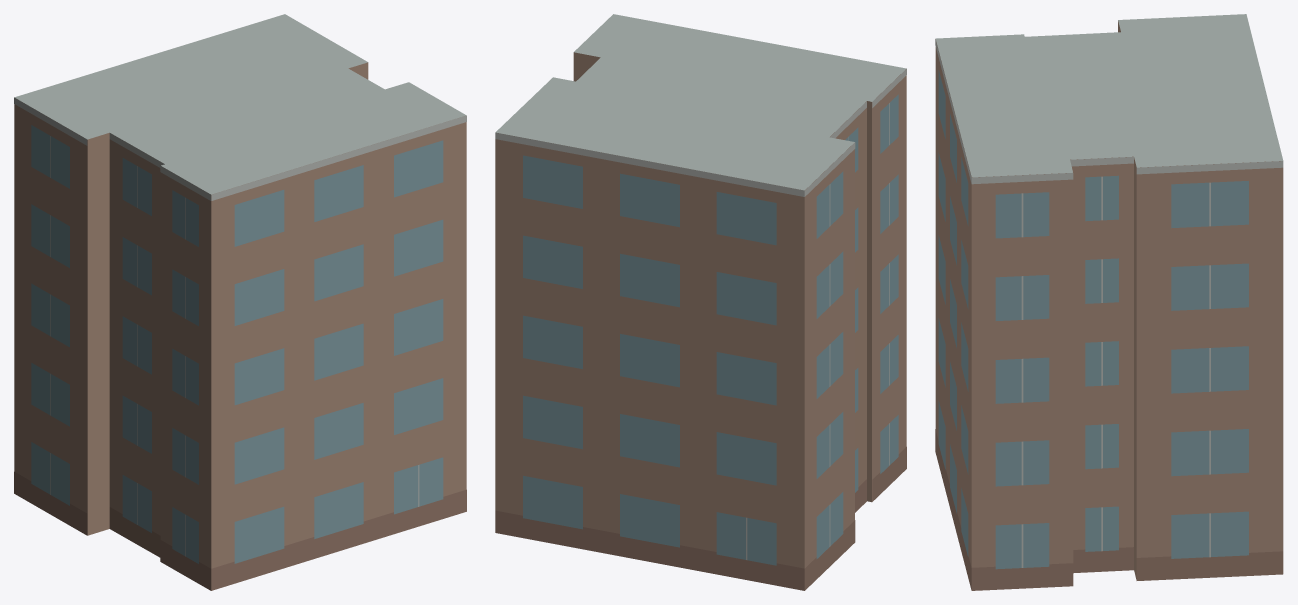
Rendered from survey-upis-32598961.glb.
The picture shows the model from 3 angles, left to right: view 1: azimuth 30°, elevation 25°; view 2: azimuth 150°, elevation 25°; view 3: azimuth 270°, elevation 25°; orthographic projection. The views are drawn at different scales.
Visible parts, largest first — view 1: survey-upis-32598961.tmp; view 2: survey-upis-32598961.tmp; view 3: survey-upis-32598961.tmp.
Part boxes in pixels (x1=…): survey-upis-32598961.tmp: x1=14, y1=14, x2=466, y2=590; survey-upis-32598961.tmp: x1=495, y1=14, x2=906, y2=590; survey-upis-32598961.tmp: x1=935, y1=14, x2=1283, y2=590.
Size of the model in its own units: 12.56 by 14.8 by 11.29.
